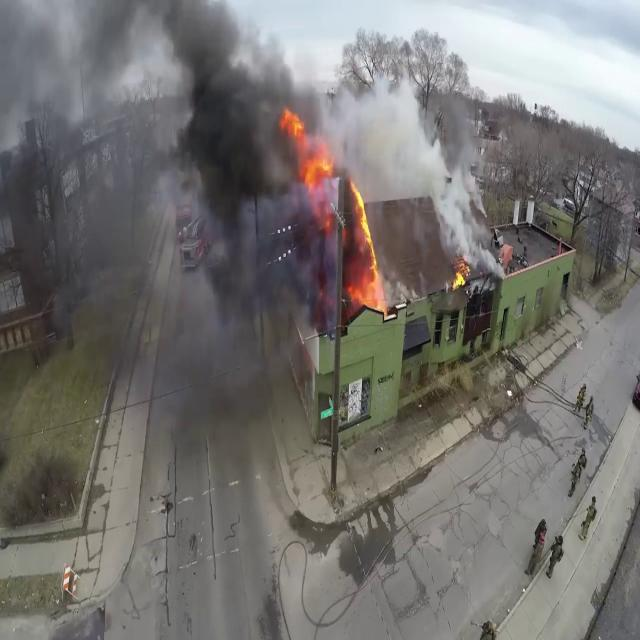Fire: (346, 178, 388, 314), (280, 99, 336, 193), (300, 140, 336, 193), (450, 262, 470, 294)
Smoke: (0, 0, 344, 387), (288, 38, 492, 262)
